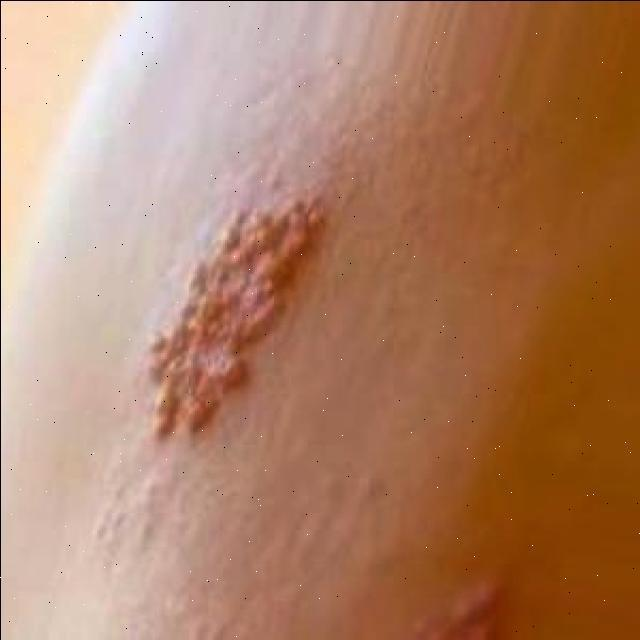Shingles: (134, 199, 326, 452)
